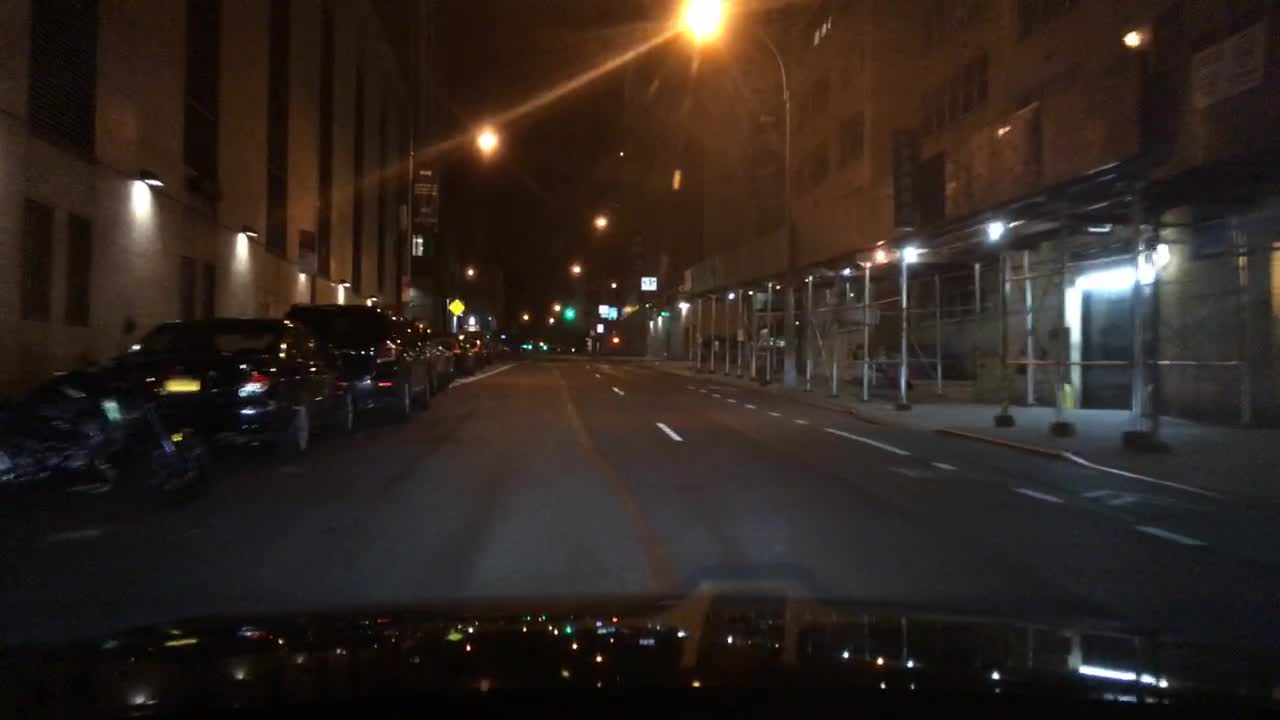bike: (0, 356, 222, 535)
car: (132, 314, 357, 460), (281, 299, 435, 424), (401, 312, 460, 395), (443, 330, 486, 377), (469, 328, 498, 366), (496, 336, 527, 360)
traffic light: (563, 304, 576, 320), (610, 333, 620, 343), (541, 341, 550, 352), (525, 343, 535, 351)
traffic sign: (445, 299, 466, 316), (640, 276, 658, 291), (598, 303, 609, 314), (595, 322, 605, 334), (599, 312, 611, 318)
